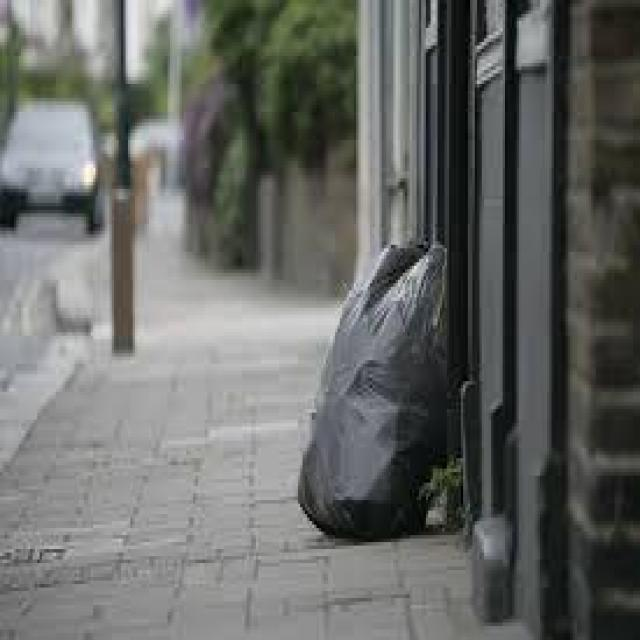plastic_bag: (306, 225, 457, 515)
